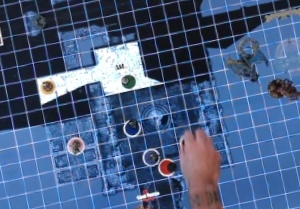blue: (117, 115, 144, 141)
green: (120, 71, 140, 90)
pink: (64, 133, 88, 157)
red: (155, 154, 178, 179)
violet: (138, 144, 160, 167)
yellow: (40, 76, 59, 95)
